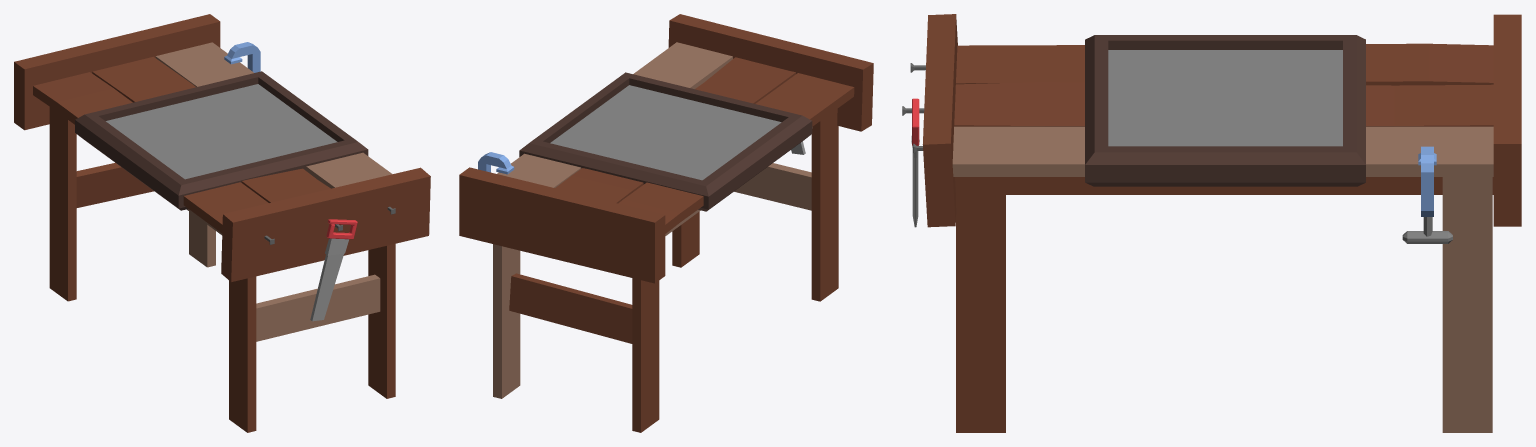
File: CraftingBench.fbx
The picture shows the model from 3 angles, left to right: view 1: azimuth 30°, elevation 25°; view 2: azimuth 150°, elevation 25°; view 3: azimuth 270°, elevation 25°; orthographic projection. The views are drawn at different scales.
Visible parts, largest first — view 1: Cube; view 2: Cube; view 3: Cube.
Part boxes in pixels (left/top/right/bottom): Cube: left=14, top=14, right=430, bottom=432; Cube: left=459, top=14, right=873, bottom=432; Cube: left=902, top=14, right=1521, bottom=432.
Size of the model in its own units: 234 by 239 by 441.
